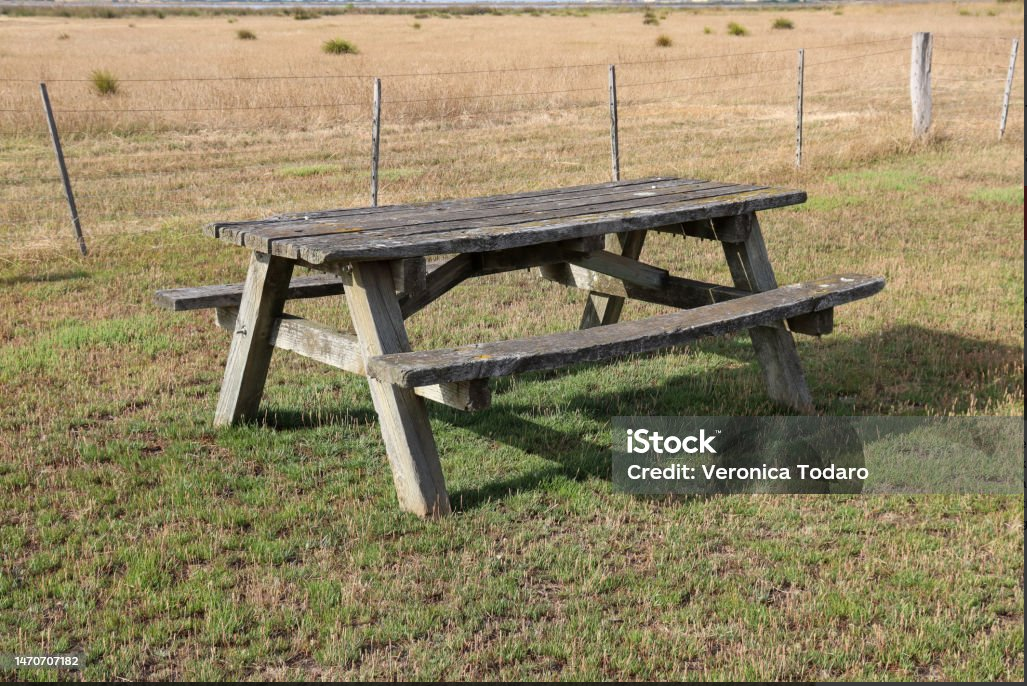obstacle: (152, 177, 887, 517)
